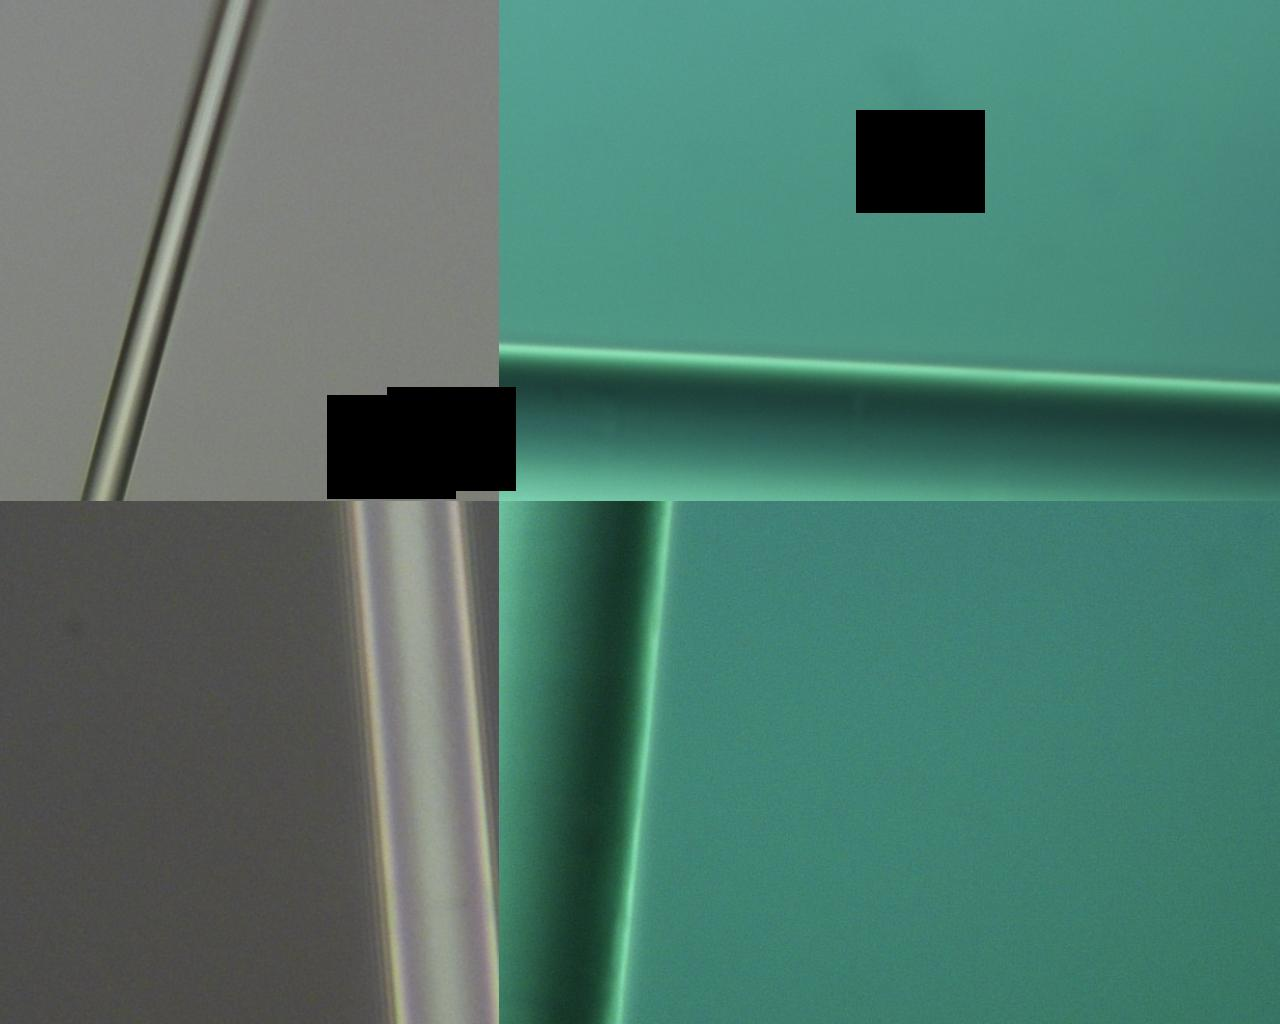fiber: (127, 252, 1151, 356)
